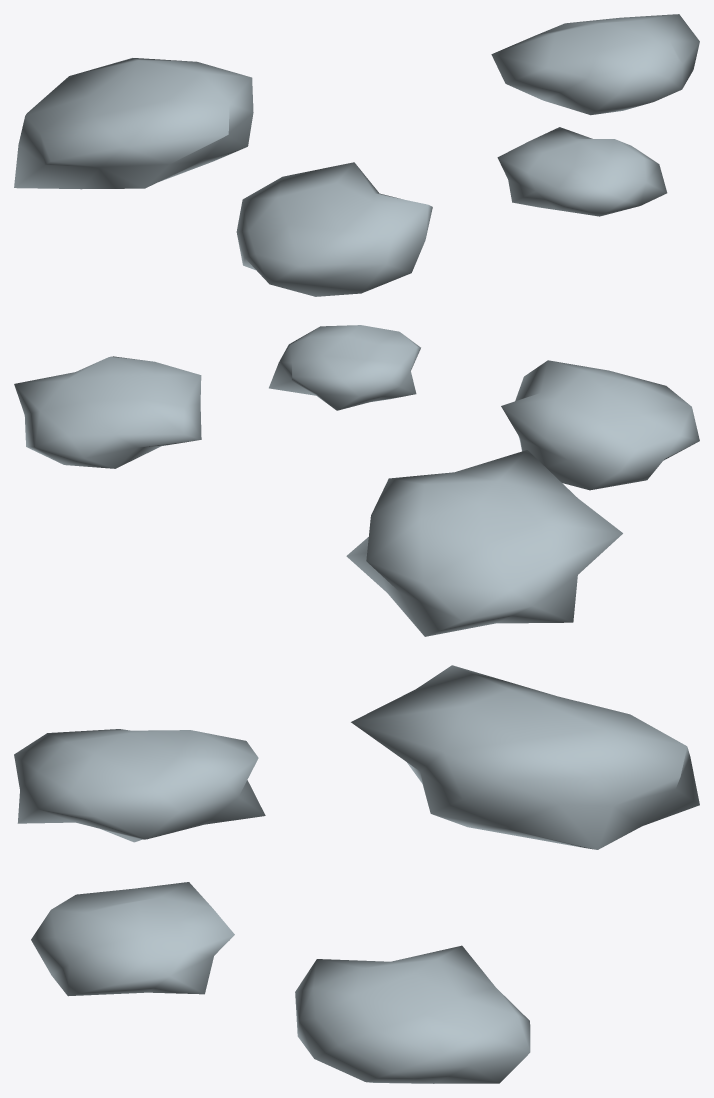
File: packOfRocks.fbx
3 renders of one model, top to bottom at view 1: azimuth 30°, elevation 25°; view 2: azimuth 150°, elevation 25°; view 3: azimuth 270°, elevation 25°, orthographic. The views are drawn at different scales.
Visible parts, largest first — view 1: Cube.002, Cube.003, Cube.001, Cube; view 2: Cube.002, Cube.003, Cube.001, Cube; view 3: Cube.002, Cube.001, Cube.003, Cube.
Part boxes in pixels (x1,y1,x2,y2): Cube.002: [14, 58, 253, 189]; Cube.003: [236, 162, 432, 296]; Cube.001: [491, 14, 699, 115]; Cube: [497, 127, 667, 216]; Cube.002: [346, 450, 622, 636]; Cube.003: [501, 360, 699, 490]; Cube.001: [14, 356, 201, 468]; Cube: [269, 325, 420, 410]; Cube.002: [351, 665, 699, 849]; Cube.001: [295, 945, 530, 1083]; Cube.003: [14, 729, 265, 842]; Cube: [31, 882, 234, 996].
Size of the model in its own units: 154 by 23.16 by 116.
